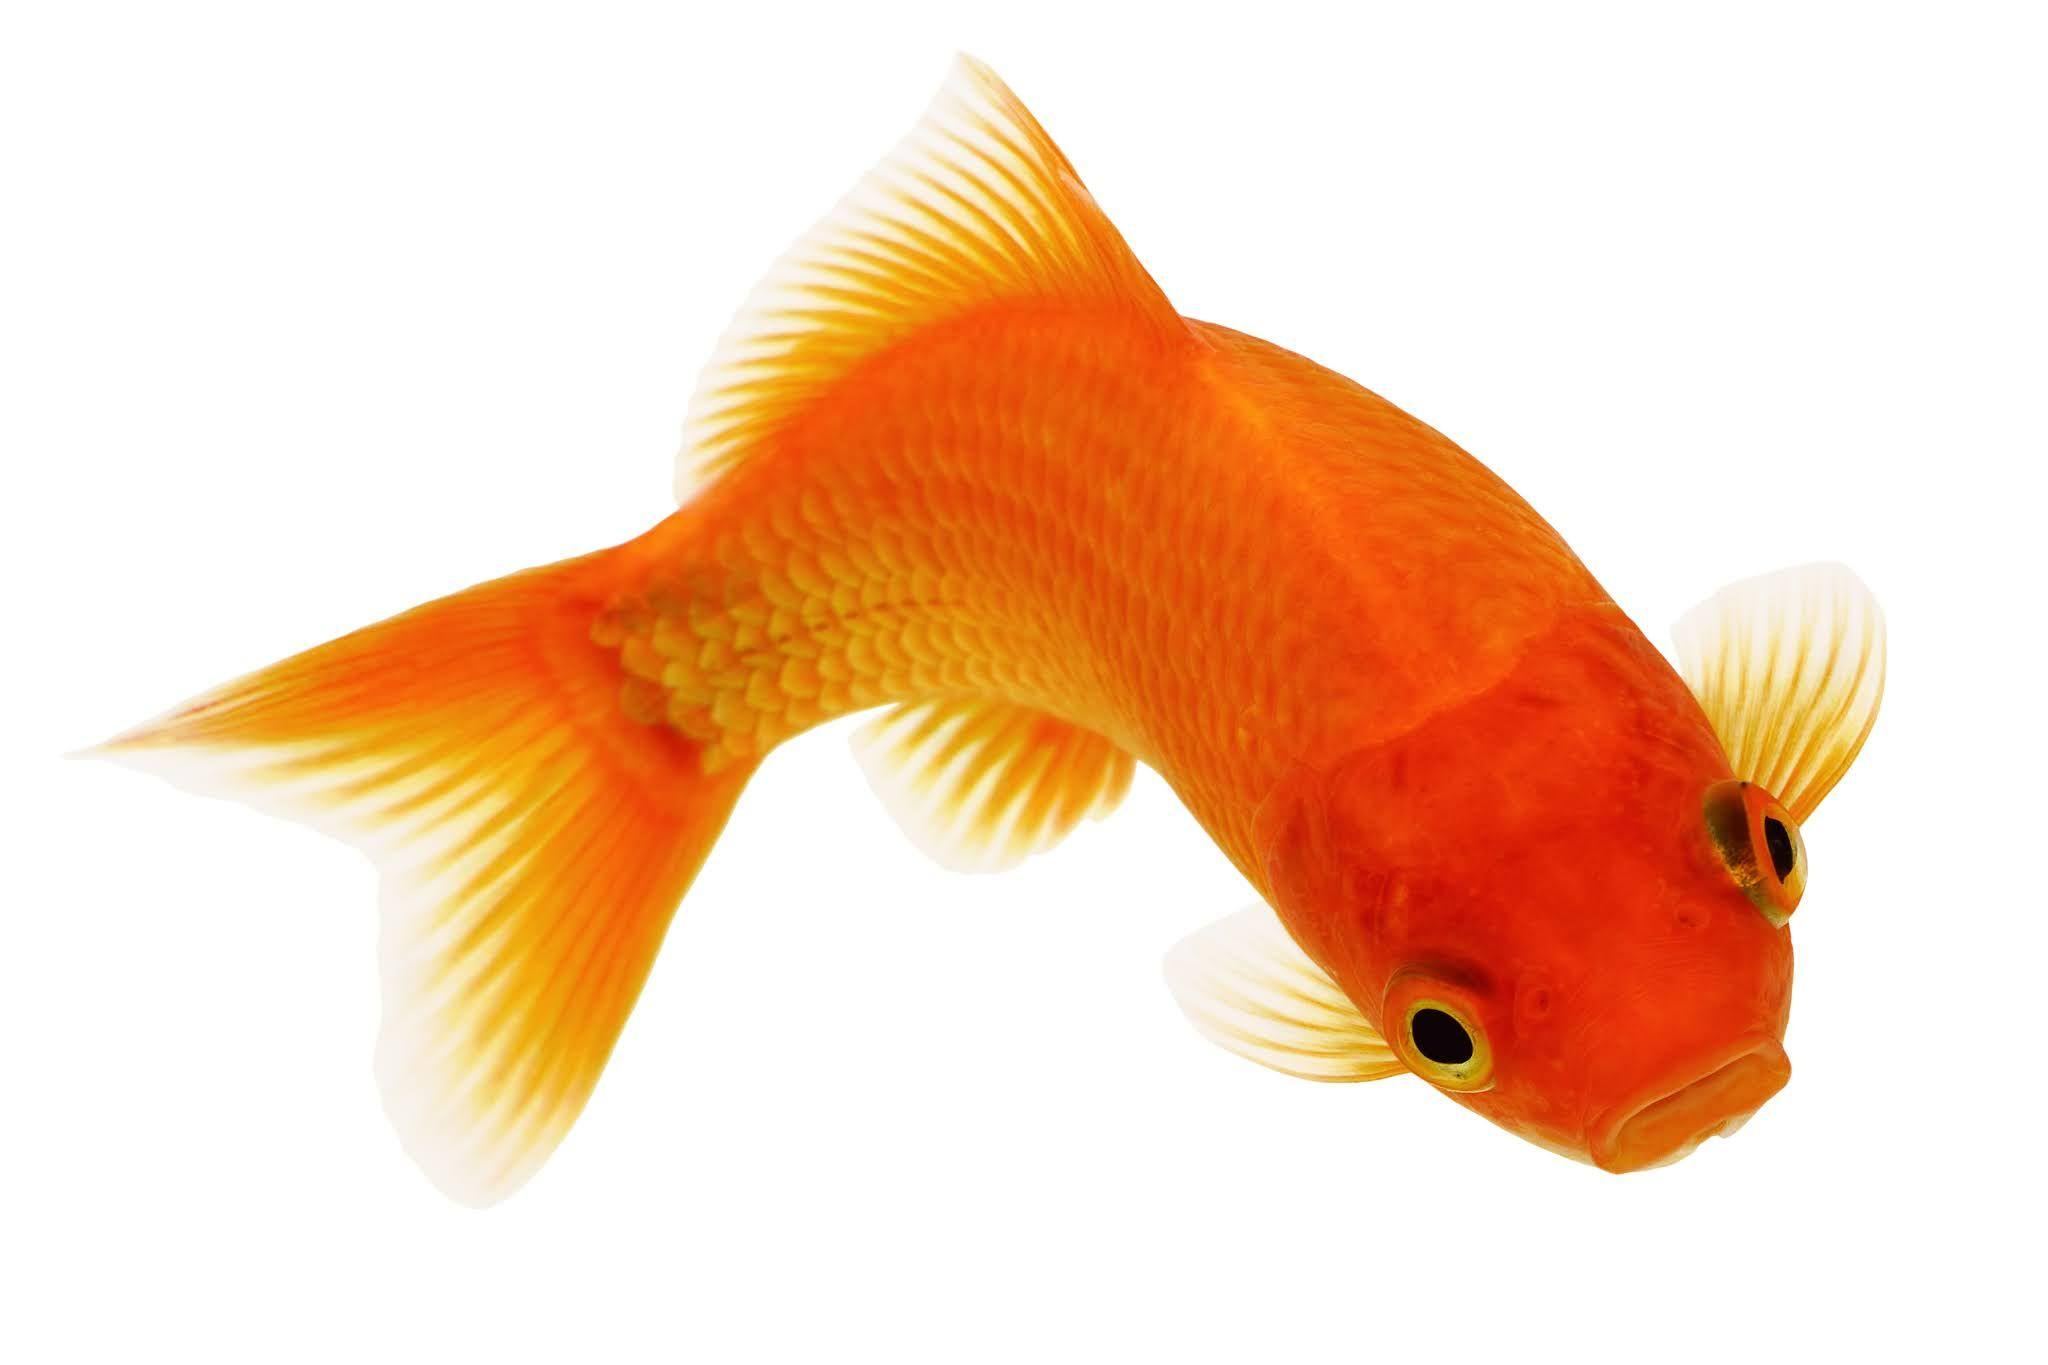Gold Fish: (85, 56, 1897, 1210)
